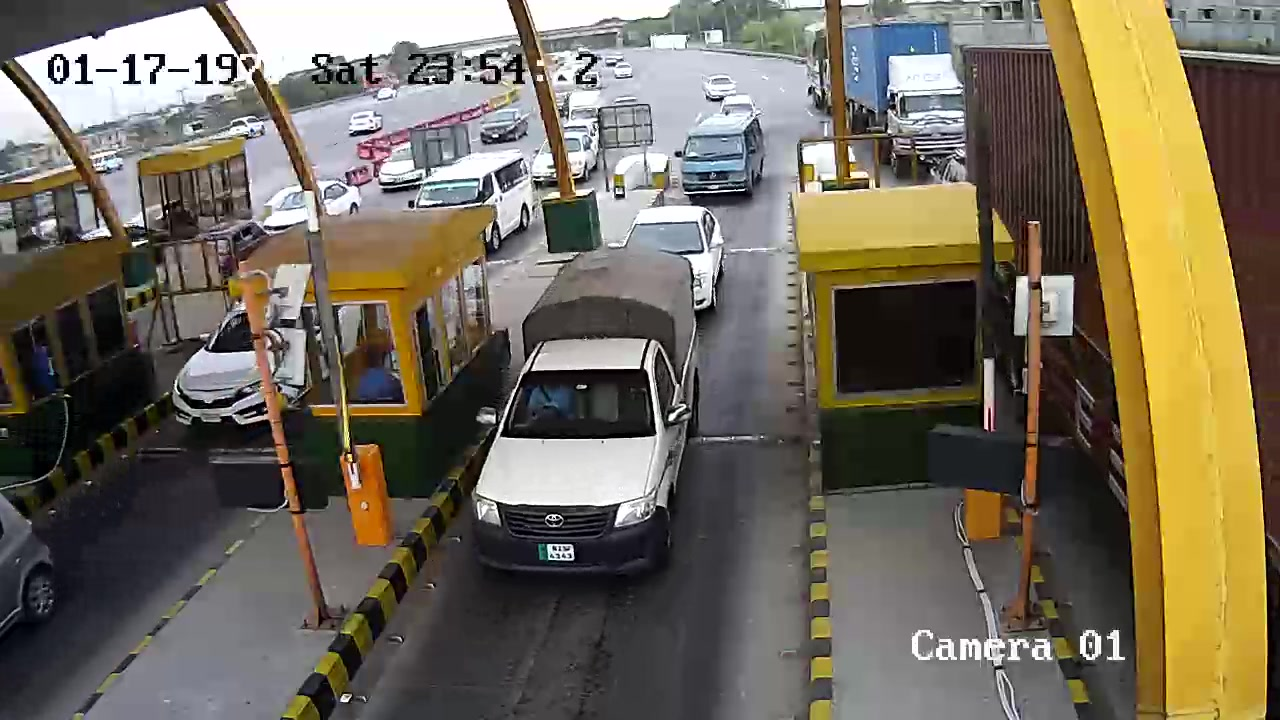F1: (457, 243, 744, 585)
